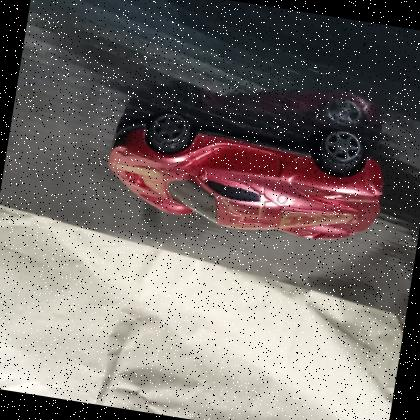Car: (95, 90, 398, 259)
